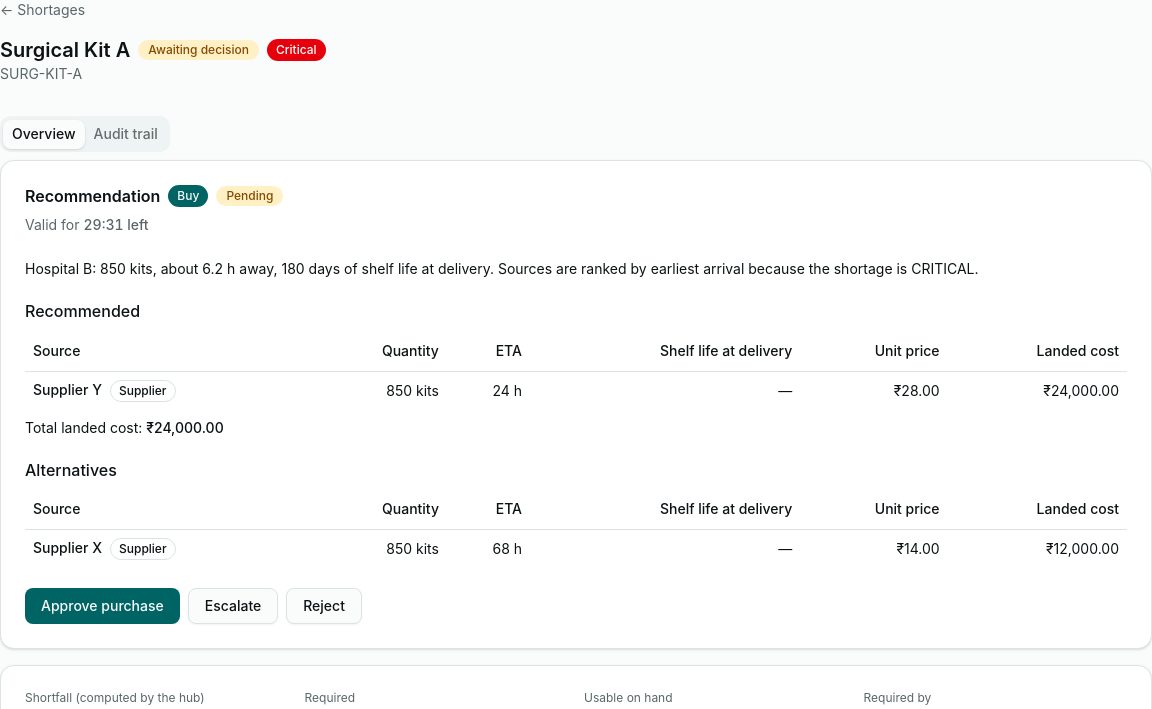
it: Decision panel › words the BUY button and the post-approval message exactly as business-rules §13
Check: the text with test id "recommendation-type" reads "Buy", box left=177, top=188, right=199, bottom=203
Click the button "Approve purchase" at x=102, y=606, box left=25, top=588, right=180, bottom=624
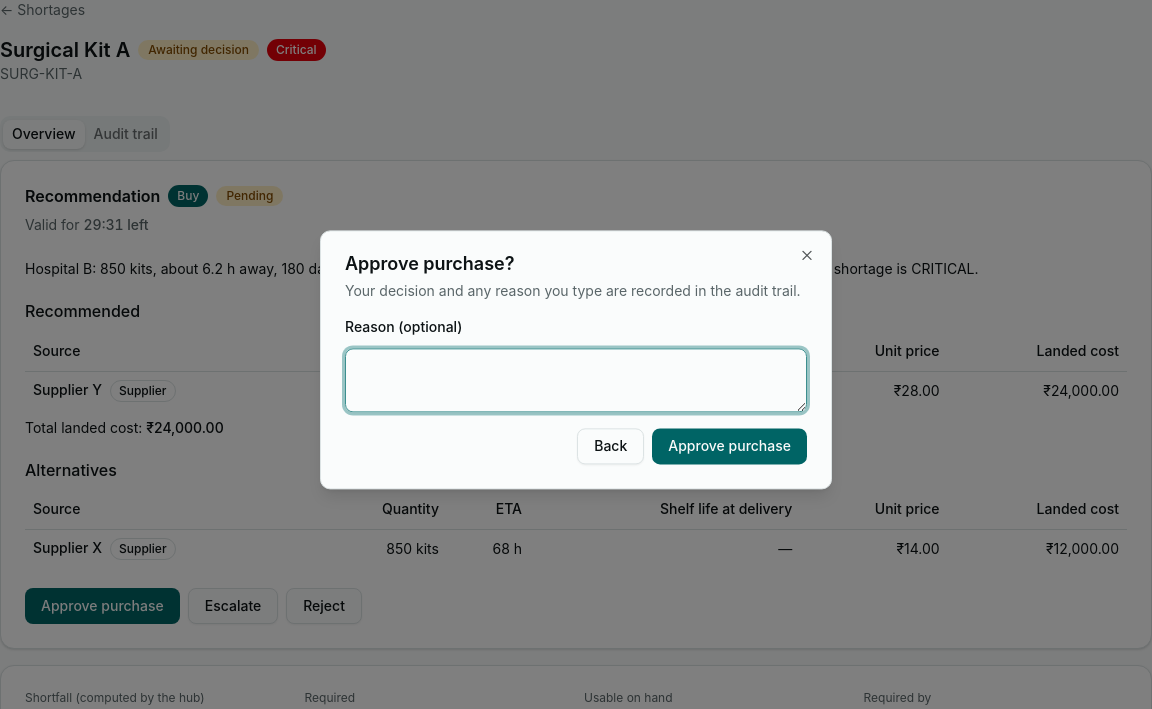
Click the button "Approve purchase" at x=730, y=447, box left=652, top=429, right=807, bottom=465
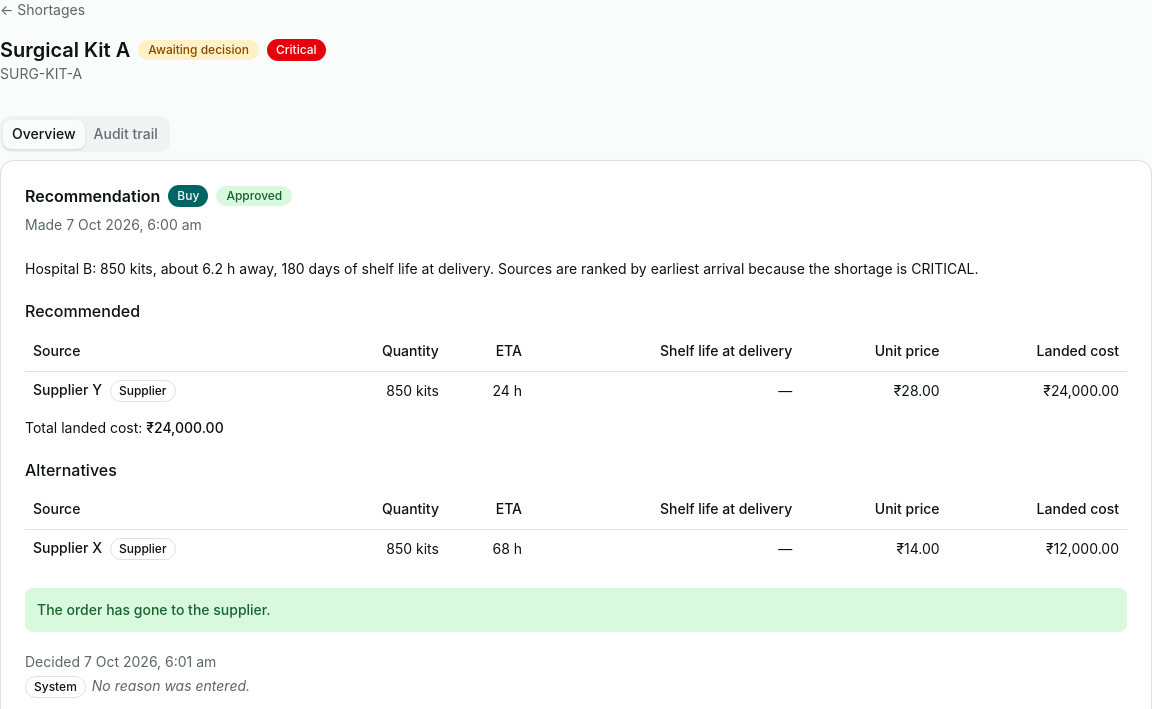
Check: the message with test id "approved-message" reads "The order has gone to the supplier.", box left=37, top=601, right=271, bottom=618
Check: the dialog is gone
Check: the button "Approve purchase" is gone
